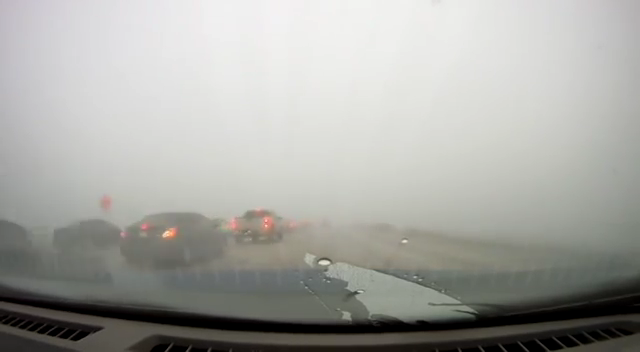car: (119, 212, 226, 267), (53, 219, 122, 252), (232, 208, 284, 244)
